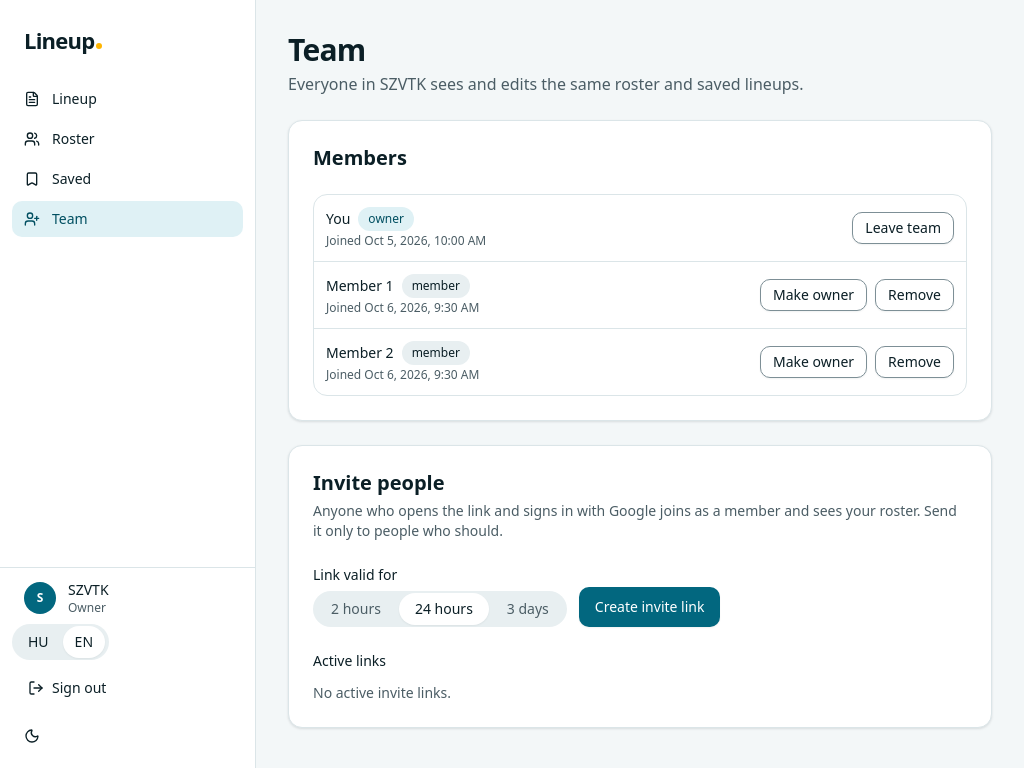
Test: as an owner › explains a refusal in plain words and refreshes the list
Click the button with aria-label "Remove member 1" at (915, 295), box 875,279 -> 954,311
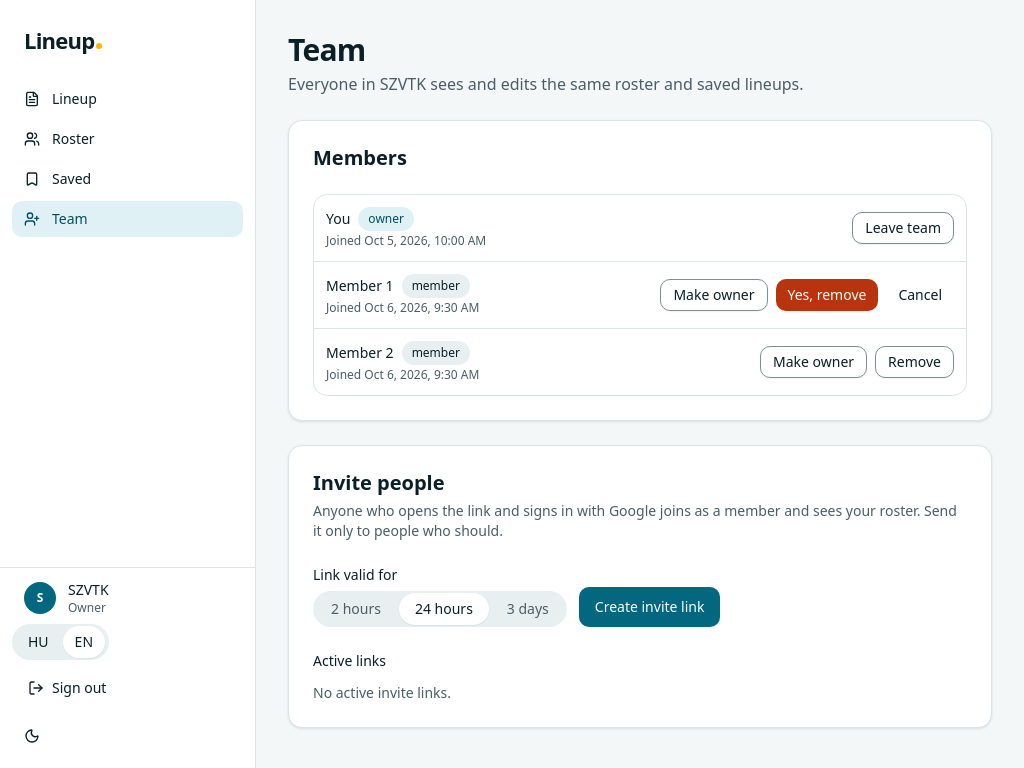
Click the button "Yes, remove" at (827, 295), box 776,279 -> 878,311
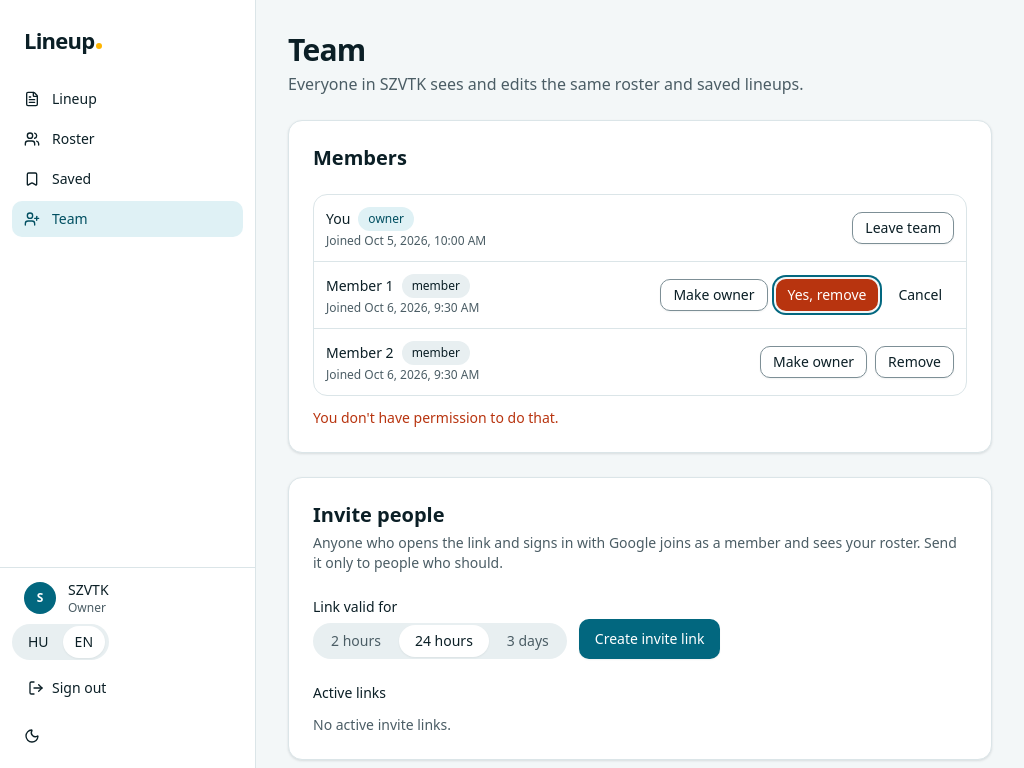
Check: the message shows "don't have permission", box 313,408 -> 559,427
